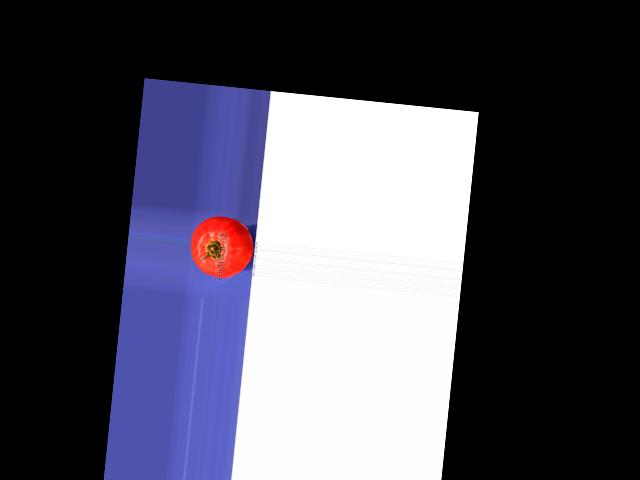tomato: (188, 213, 255, 280)
